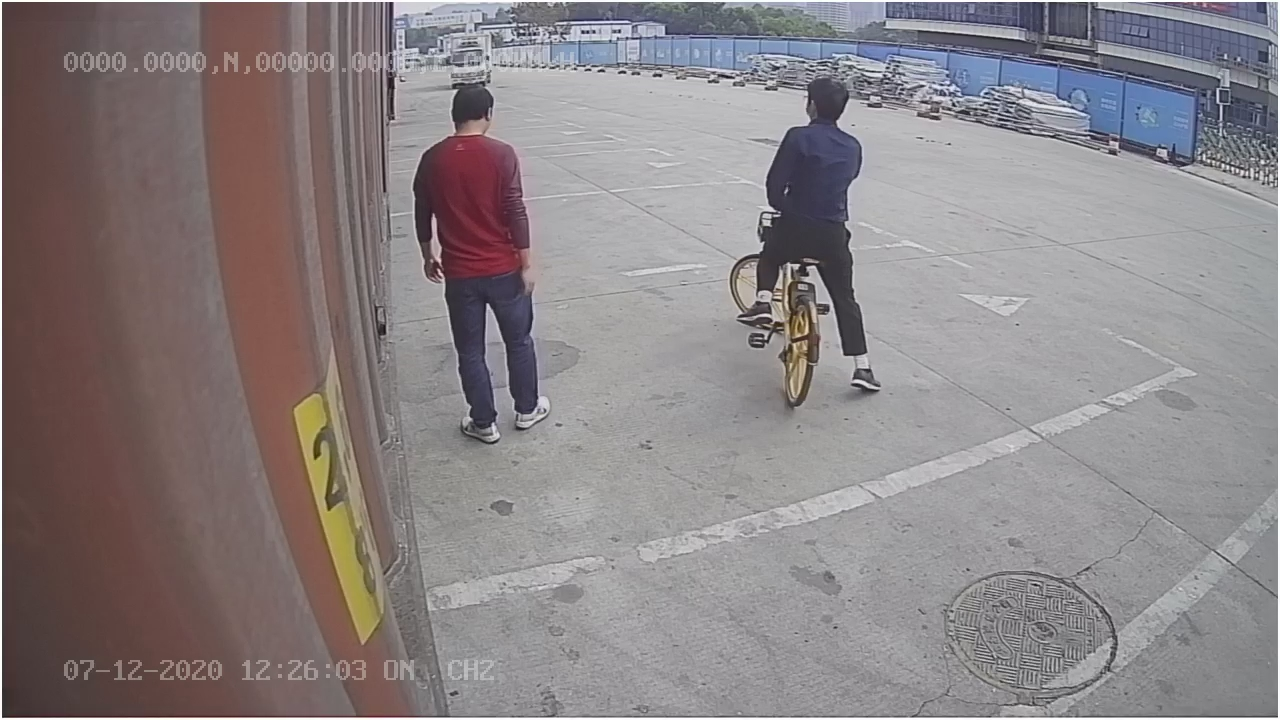person: (409, 82, 553, 445)
